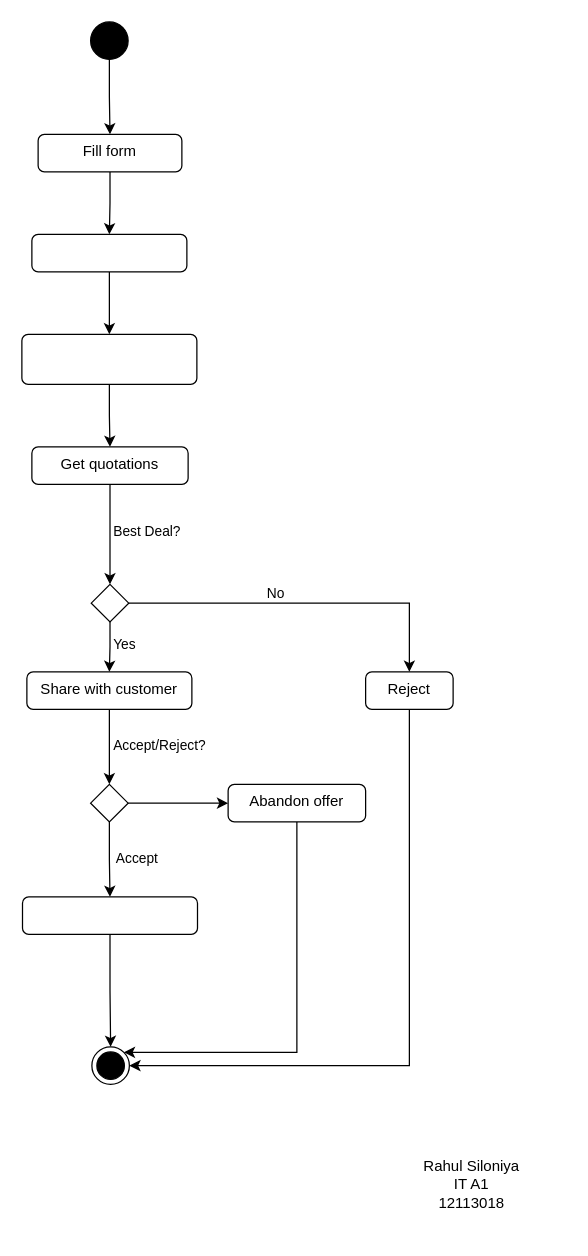
The diagram is 588 pixels wide and 1256 high, and some of its shapes have lost their labels. Here are the shapes that lost their labels. From the top down, the centre of each, then its label:
At point 109,252: "Send to agent".
At point 109,358: "Send application to insurance companies".
At point 109,915: "Take proposal and quote".
